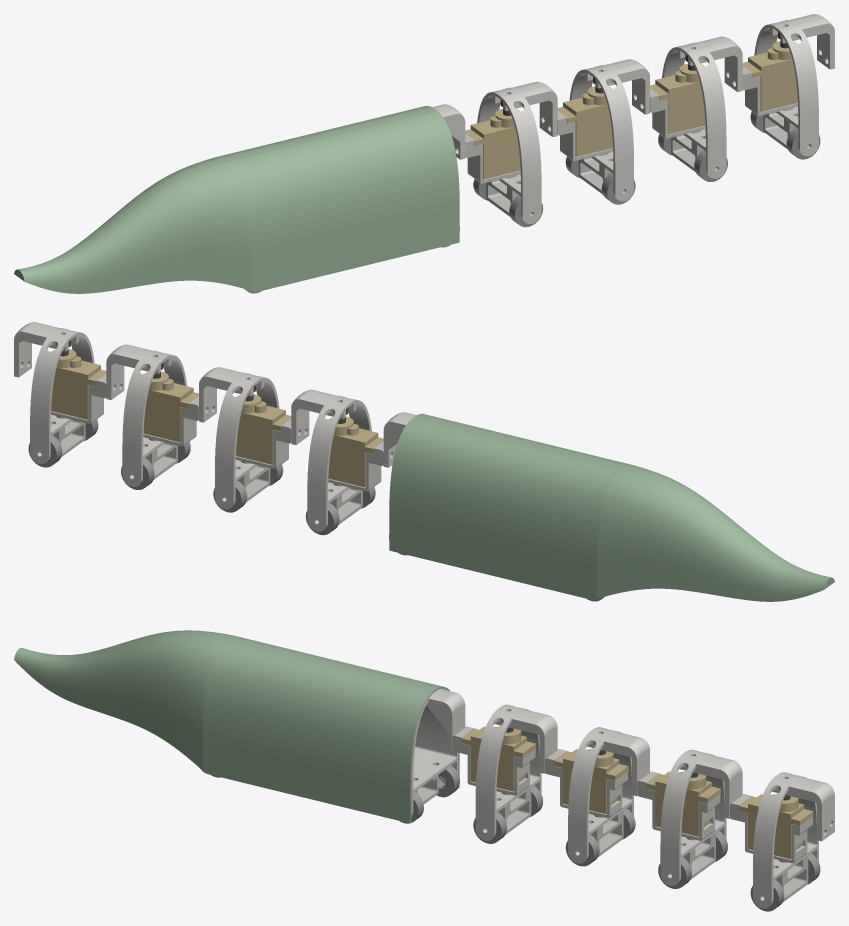
File: snake_4node_straight_with_tail.glb
The picture shows the model from 3 angles, top to bottom: view 1: azimuth 30°, elevation 25°; view 2: azimuth 150°, elevation 25°; view 3: azimuth 330°, elevation 25°; orthographic projection.
Visible parts, largest first — view 1: tail_skin, n0_rib, n2_rib, n3_rib, n1_rib, n1_mg90s, n3_mg90s, n0_mg90s, n2_mg90s, n0_coupler, caboose, n2_coupler (+6 smaller); view 2: tail_skin, n0_rib, n2_rib, n3_rib, n1_rib, n1_mg90s, n3_mg90s, n0_mg90s, n2_mg90s, n0_coupler, caboose, n2_coupler (+6 smaller); view 3: tail_skin, n3_rib, n0_rib, n2_rib, n1_rib, caboose, n0_mg90s, n3_mg90s, n2_mg90s, n1_mg90s, n2_coupler, n0_coupler (+7 smaller).
Boxes of the visible parts, left/top/right/bottom form: tail_skin: left=14, top=105, right=459, bottom=293; n0_rib: left=477, top=81, right=557, bottom=223; n2_rib: left=662, top=36, right=742, bottom=178; n3_rib: left=754, top=14, right=834, bottom=156; n1_rib: left=569, top=59, right=649, bottom=201; n1_mg90s: left=557, top=86, right=612, bottom=156; n3_mg90s: left=742, top=41, right=797, bottom=111; n0_mg90s: left=465, top=108, right=520, bottom=179; n2_mg90s: left=650, top=63, right=705, bottom=134; n0_coupler: left=465, top=133, right=520, bottom=183; caboose: left=432, top=104, right=465, bottom=159; n2_coupler: left=650, top=88, right=705, bottom=138; tail_skin: left=389, top=413, right=834, bottom=601; n0_rib: left=291, top=389, right=371, bottom=531; n2_rib: left=106, top=344, right=186, bottom=486; n3_rib: left=14, top=322, right=94, bottom=464; n1_rib: left=199, top=367, right=279, bottom=509; n1_mg90s: left=236, top=394, right=291, bottom=464; n3_mg90s: left=51, top=349, right=106, bottom=419; n0_mg90s: left=328, top=416, right=383, bottom=487; n2_mg90s: left=143, top=371, right=198, bottom=442; n0_coupler: left=328, top=441, right=383, bottom=491; caboose: left=383, top=412, right=416, bottom=467; n2_coupler: left=143, top=396, right=198, bottom=446; tail_skin: left=14, top=630, right=459, bottom=823; n3_rib: left=753, top=772, right=834, bottom=908; n0_rib: left=475, top=704, right=557, bottom=840; n2_rib: left=660, top=749, right=742, bottom=885; n1_rib: left=568, top=727, right=649, bottom=863; caboose: left=411, top=688, right=465, bottom=816; n0_mg90s: left=461, top=726, right=535, bottom=791; n3_mg90s: left=738, top=793, right=813, bottom=859; n2_mg90s: left=646, top=771, right=720, bottom=836; n1_mg90s: left=554, top=748, right=628, bottom=813; n2_coupler: left=637, top=771, right=720, bottom=840; n0_coupler: left=452, top=726, right=535, bottom=795.
Bounding box in the file's own units: 428 × 60.8 × 45.2.
